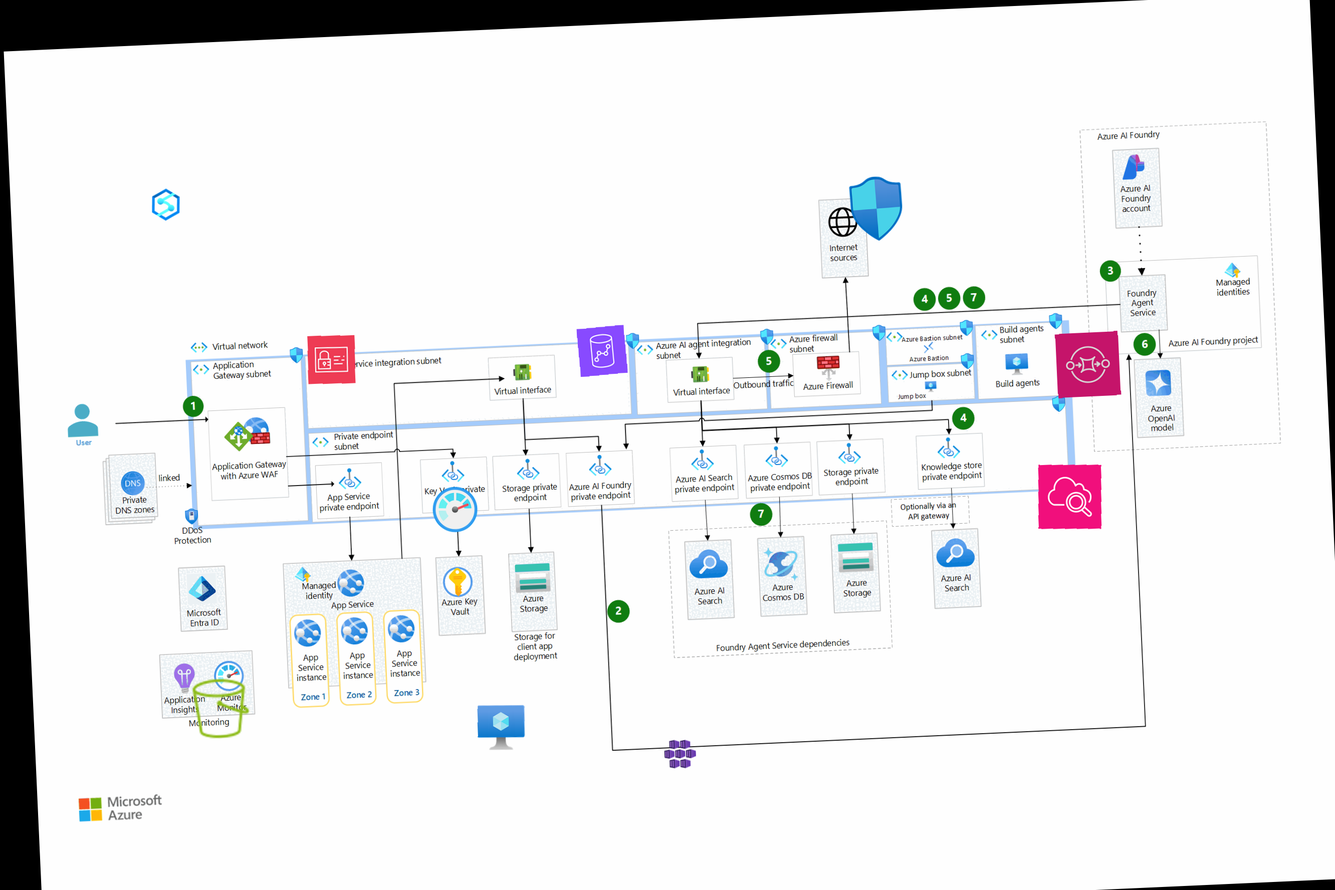aws_amazon_cloudwatch: (1035, 462, 1104, 532)
aws_amazon_redshift: (576, 324, 628, 377)
aws_amazon_simple_queue_service: (1054, 330, 1121, 398)
aws_identity_and_access_management: (306, 333, 357, 385)
aws_simple_storage_service_s3_standard: (187, 675, 254, 742)
azure_kubernetes_services: (663, 736, 697, 771)
azure_monitor: (428, 483, 481, 536)
azure_network_security_groups: (842, 173, 911, 243)
azure_synapse_analytics: (148, 187, 183, 222)
azure_virtual_machine: (476, 703, 527, 755)
